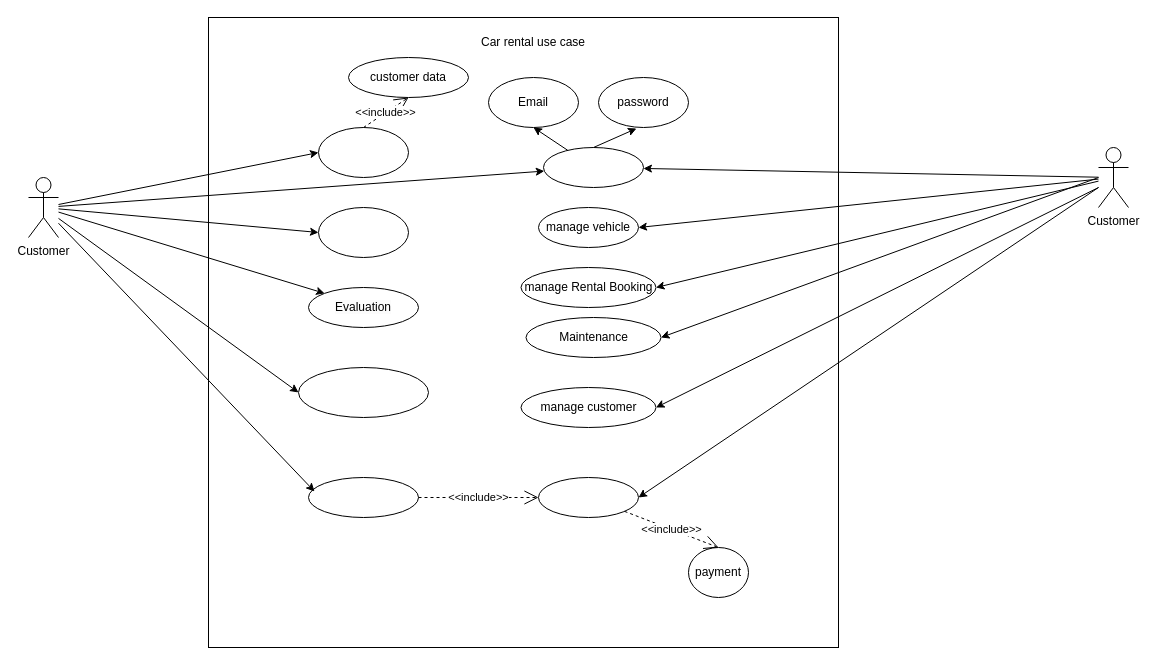
Some shapes in this 1156 by 665 pixel diagram are drawn without their labels. The centre of each missing label's shape, as x and y in pixels:
"Login" belongs at point 593,167.
"managr Vehicle Returns" belongs at point 588,497.
"Return vehicle" belongs at point 363,497.
"sign up" belongs at point 363,152.
"update Acount" belongs at point 363,232.
"view rental booking" belongs at point 363,392.
